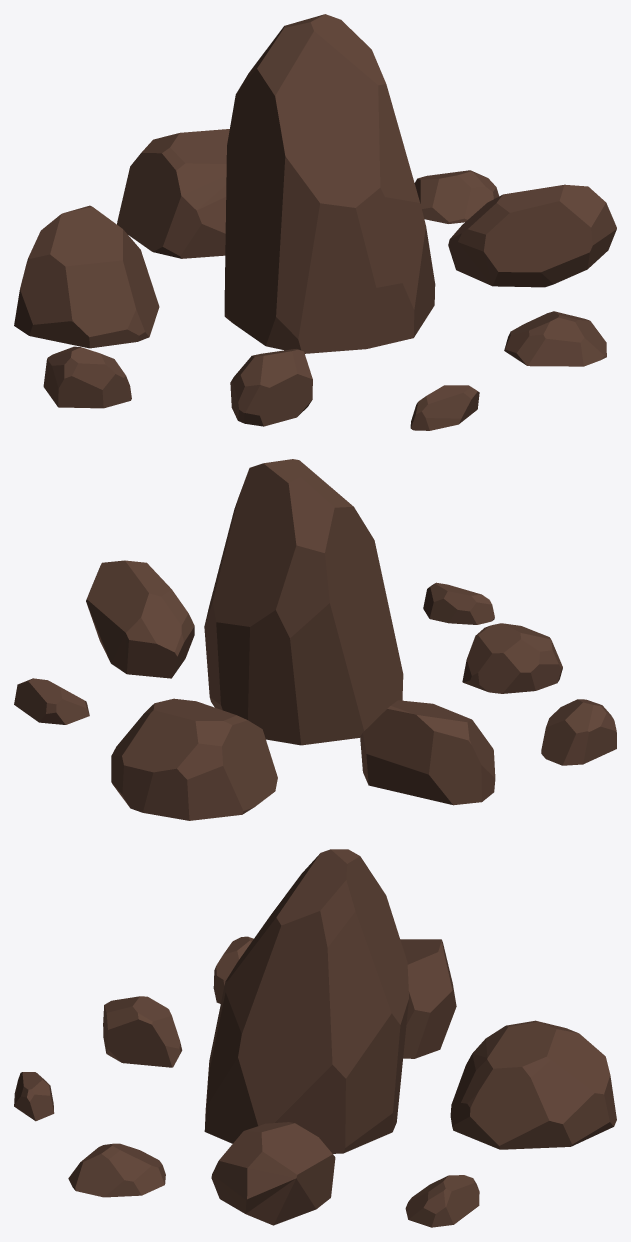
The model's file is rocks.glb.
The picture shows the model from 3 angles, top to bottom: view 1: azimuth 30°, elevation 25°; view 2: azimuth 150°, elevation 25°; view 3: azimuth 270°, elevation 25°; orthographic projection. The views are drawn at different scales.
Visible parts, largest first — view 1: Cube001; view 2: Cube001; view 3: Cube001.
Boxes of the visible parts, box(x1,y1,x2,y2) form: Cube001: box(14, 14, 616, 430); Cube001: box(14, 459, 616, 820); Cube001: box(14, 849, 616, 1227).
Size of the model in its own units: 2 by 0.9428 by 1.93.
